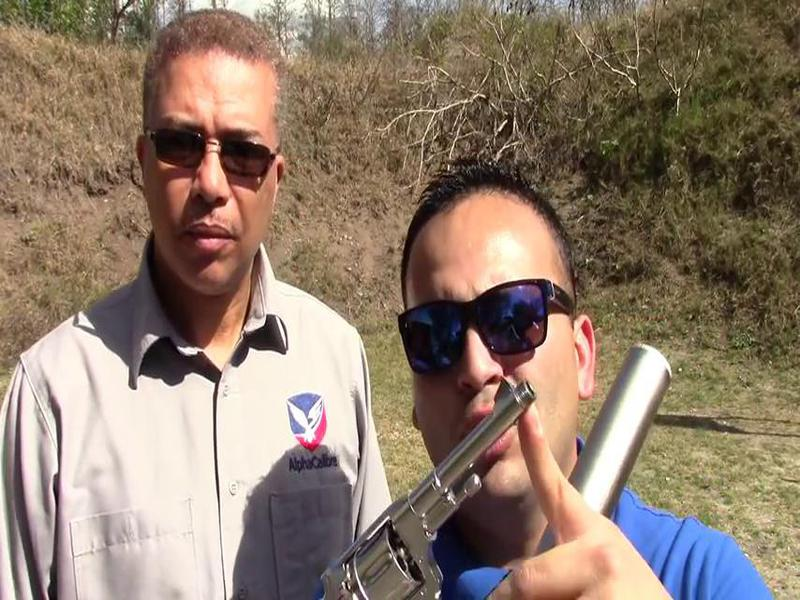Revolver: (302, 369, 558, 600)
